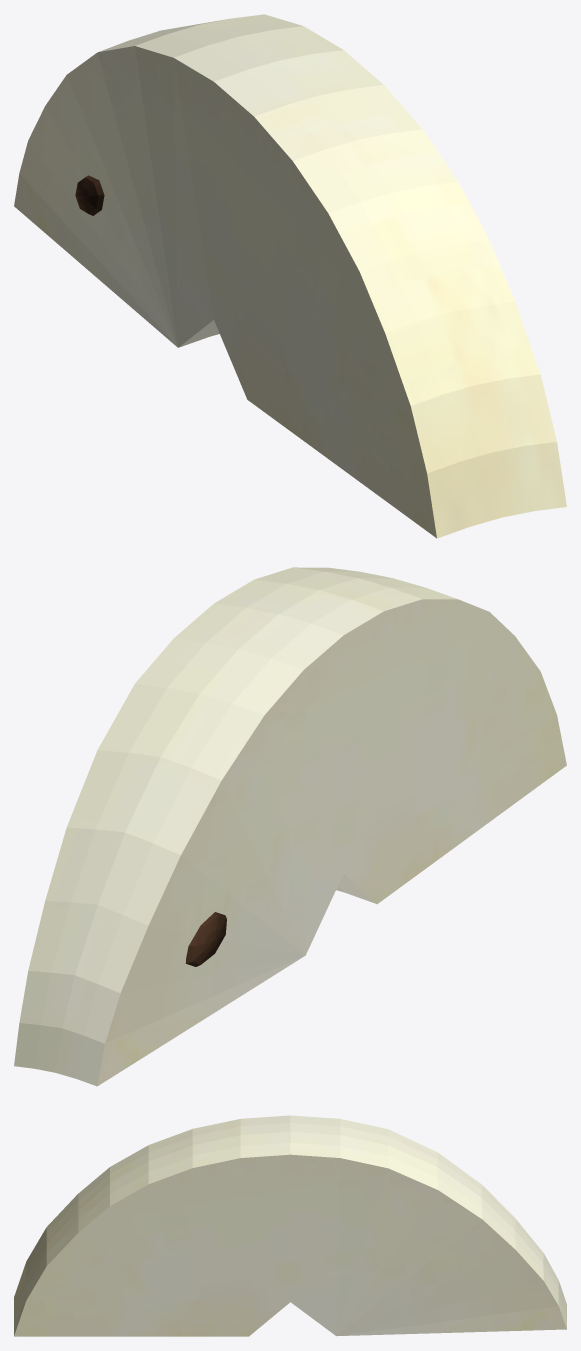
Rendered from Apple_Model.fbx.
The picture shows the model from 3 angles, top to bottom: view 1: azimuth 30°, elevation 25°; view 2: azimuth 150°, elevation 25°; view 3: azimuth 270°, elevation 25°; orthographic projection. The views are drawn at different scales.
Visible parts, largest first — view 1: Circle.004; view 2: Circle.004; view 3: Circle.004.
Boxes of the visible parts, x1,y1,x2,y2 form: Circle.004: (14, 14, 566, 538); Circle.004: (14, 567, 566, 1086); Circle.004: (14, 1115, 566, 1336).
Bounding box in the file's own units: 202 × 439 × 1190.
Materials: 1 (1 with a texture image).
